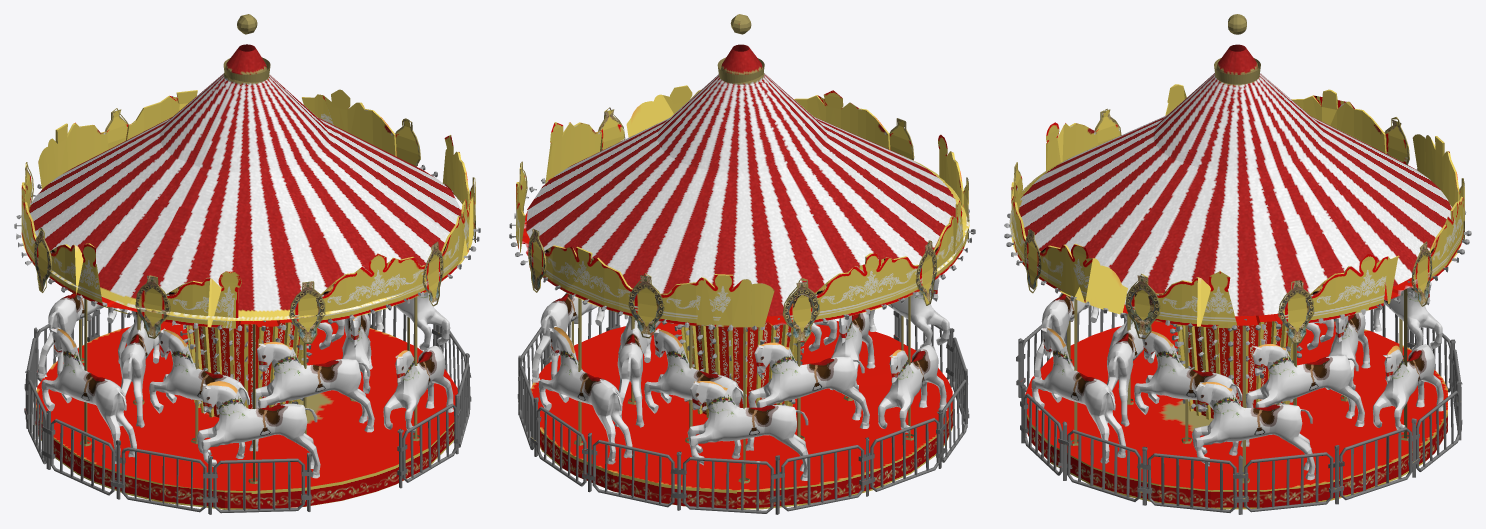
The model's file is MerryGoRound_LOD2.fbx.
3 renders of one model, left to right at view 1: azimuth 30°, elevation 25°; view 2: azimuth 150°, elevation 25°; view 3: azimuth 270°, elevation 25°, orthographic.
Parts seen in each view (by area): view 1: MerryGoRound_Base, MerryGoRound_Fence, Horse8, Horse3, Horse11, Horse7, Horse9, Horse12, Horse2, MerryGoRound_Lights, Horse10, Horse4; view 2: MerryGoRound_Base, MerryGoRound_Fence, Horse2, Horse12, Horse6, Horse1, Horse11, Horse5, Horse10, Horse8, Horse7, MerryGoRound_Lights; view 3: MerryGoRound_Base, MerryGoRound_Fence, Horse10, Horse5, Horse9, Horse4, Horse6, Horse3, MerryGoRound_Lights, Horse2, Horse1, Horse8.
Part boxes in pixels (x1,y1,x2,y2): MerryGoRound_Base: (21, 14, 476, 509); MerryGoRound_Fence: (24, 306, 471, 514); Horse8: (196, 381, 320, 478); Horse3: (251, 342, 374, 432); Horse11: (41, 327, 136, 463); Horse7: (149, 328, 258, 458); Horse9: (383, 345, 453, 432); Horse12: (117, 312, 159, 427); Horse2: (38, 293, 116, 378); MerryGoRound_Lights: (14, 165, 480, 414); Horse10: (375, 292, 450, 350); Horse4: (342, 314, 372, 393); MerryGoRound_Base: (516, 14, 969, 509); MerryGoRound_Fence: (517, 310, 969, 514); Horse2: (687, 381, 808, 480); Horse12: (748, 342, 869, 428); Horse6: (538, 326, 632, 464); Horse1: (644, 328, 754, 458); Horse11: (878, 345, 947, 433); Horse5: (614, 316, 651, 427); Horse10: (531, 292, 604, 382); Horse8: (868, 278, 949, 347); Horse7: (829, 312, 875, 390); MerryGoRound_Lights: (509, 178, 975, 411); MerryGoRound_Base: (1009, 14, 1464, 509); MerryGoRound_Fence: (1016, 304, 1462, 514); Horse10: (1192, 382, 1315, 480); Horse5: (1246, 344, 1364, 426); Horse9: (1031, 327, 1125, 463); Horse4: (1134, 331, 1249, 455); Horse6: (1373, 344, 1443, 432); Horse3: (1106, 319, 1155, 426); MerryGoRound_Lights: (1004, 168, 1471, 411); Horse2: (1364, 281, 1442, 350); Horse1: (1326, 312, 1370, 390); Horse8: (1034, 293, 1098, 379).
Size of the model in its own units: 658 by 630 by 660.
Materials: 2 (1 with a texture image).
